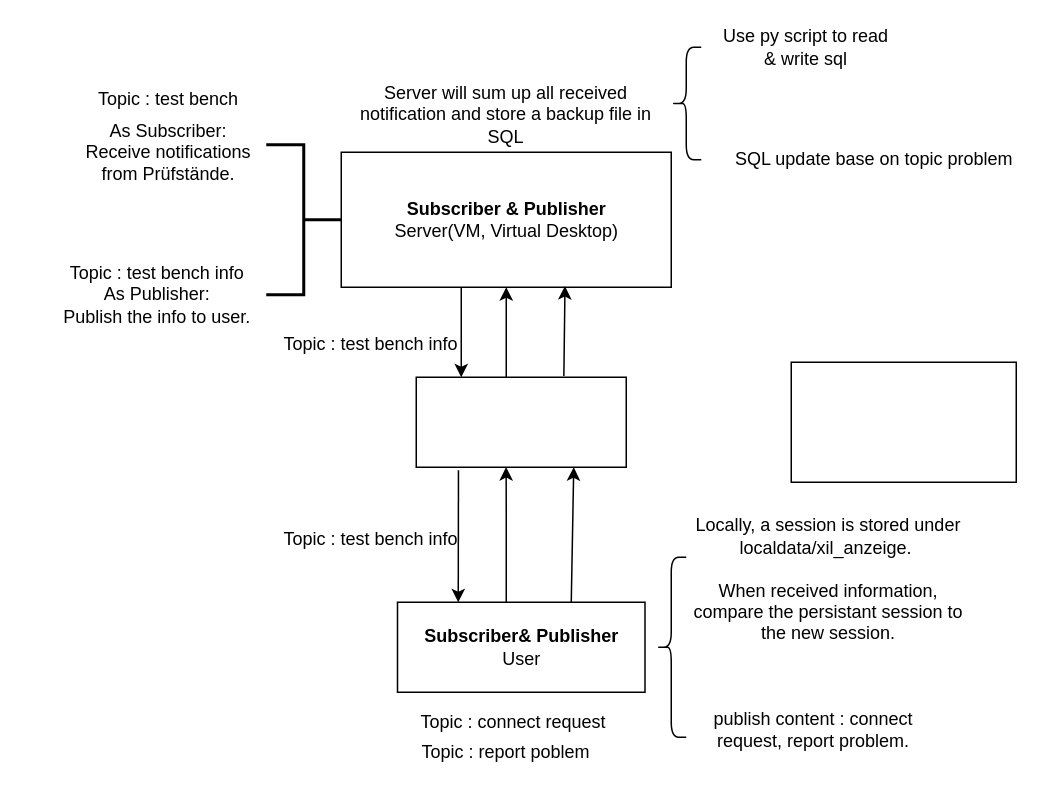
Some shapes in this 1056 by 794 pixel diagram are drawn without their labels. The centre of each missing label's shape, as x and y in pixels:
IAV Broker: point 520,421
Publisher Prüfstand: point 903,421
